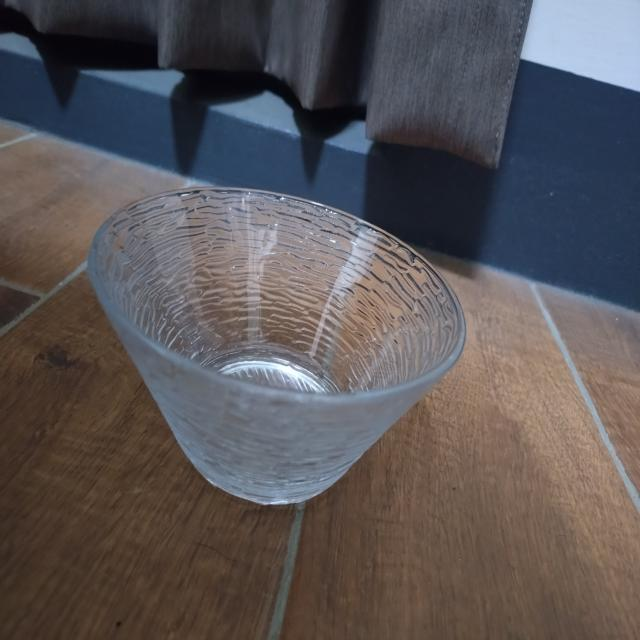Dry Waste: (80, 176, 470, 512)
